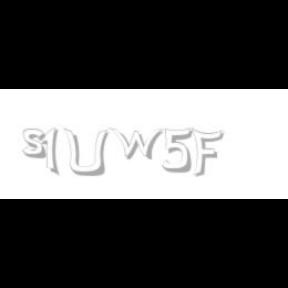1: (38, 128, 60, 176)
5: (162, 128, 192, 174)
F: (191, 128, 223, 178)
U: (62, 128, 108, 178)
s: (23, 128, 51, 160)
w: (109, 128, 168, 160)
